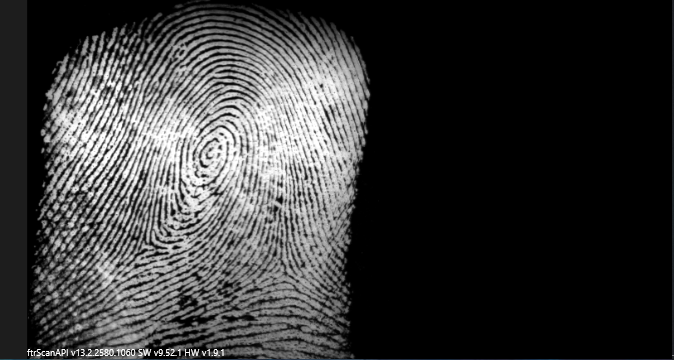deltas: (126, 220, 173, 265), (263, 247, 308, 290)
nucleo: (183, 122, 231, 176)
